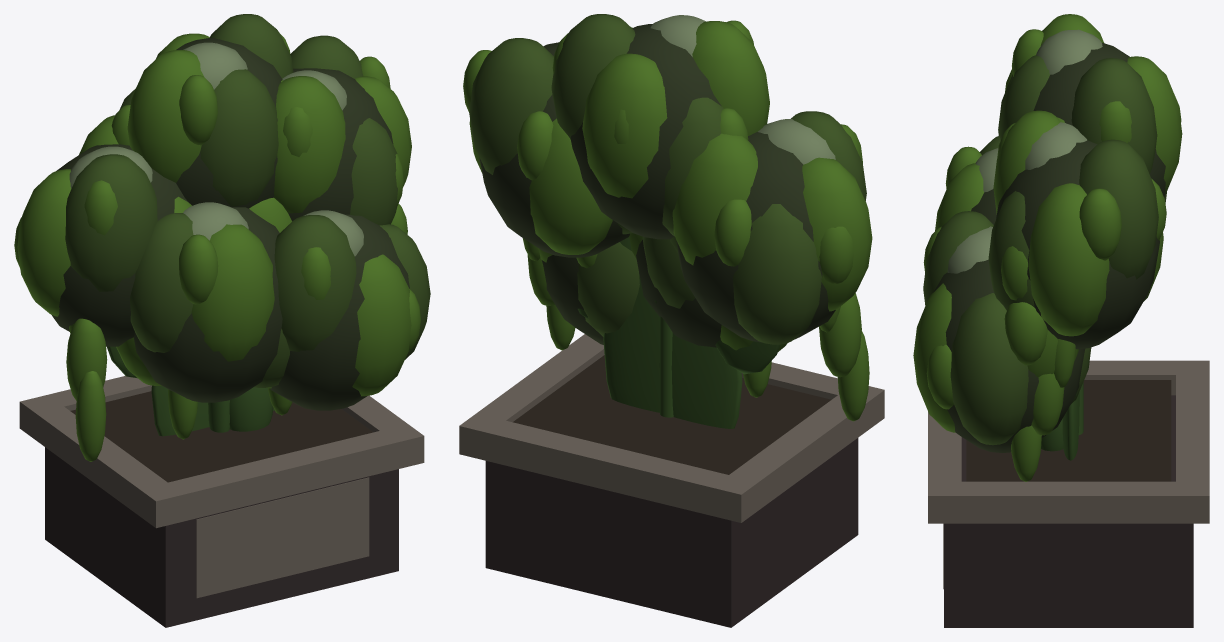
Rendered from CMU3DPottedPlant0.glb.
The picture shows the model from 3 angles, left to right: view 1: azimuth 30°, elevation 25°; view 2: azimuth 150°, elevation 25°; view 3: azimuth 270°, elevation 25°; orthographic projection. The views are drawn at different scales.
Visible parts, largest first — view 1: rounded irregular leaf spray (×18), shadowed foliage core (×5), square pot base, inset light-facing planter band, recessed soil, front and back rim (×2), side rim (×2), fine leafy crown edge (×5), tapered leaf blade (×3), crown highlight (×5), branch (×3); view 2: rounded irregular leaf spray (×12), square pot base, shadowed foliage core (×5), recessed soil, side rim (×2), branch (×4), front and back rim (×2), fine leafy crown edge (×5), tapered leaf blade (×4), crown highlight (×2); view 3: rounded irregular leaf spray (×13), square pot base, side rim (×2), shadowed foliage core (×4), recessed soil, fine leafy crown edge (×8), front and back rim (×2), crown highlight (×4), tapered leaf blade (×3), branch (×2).
Part boxes in pixels (left/top/right/bottom): rounded irregular leaf spray (×18): left=17, top=14, right=430, bottom=396; shadowed foliage core (×5): left=52, top=38, right=409, bottom=410; square pot base: left=45, top=447, right=398, bottom=627; inset light-facing planter band: left=196, top=477, right=369, bottom=598; recessed soil: left=70, top=391, right=373, bottom=482; front and back rim (×2): left=48, top=376, right=396, bottom=521; side rim (×2): left=19, top=395, right=424, bottom=528; fine leafy crown edge (×5): left=84, top=75, right=330, bottom=304; tapered leaf blade (×3): left=66, top=318, right=197, bottom=461; crown highlight (×5): left=69, top=42, right=363, bottom=256; branch (×3): left=151, top=385, right=273, bottom=436; rounded irregular leaf spray (×12): left=469, top=14, right=872, bottom=344; square pot base: left=485, top=438, right=858, bottom=627; shadowed foliage core (×5): left=479, top=24, right=835, bottom=347; recessed soil: left=513, top=355, right=831, bottom=474; side rim (×2): left=459, top=334, right=884, bottom=522; branch (×4): left=603, top=273, right=780, bottom=428; front and back rim (×2): left=488, top=362, right=838, bottom=515; fine leafy crown edge (×5): left=463, top=50, right=853, bottom=283; tapered leaf blade (×4): left=527, top=254, right=869, bottom=421; crown highlight (×2): left=650, top=15, right=835, bottom=164; rounded irregular leaf spray (×13): left=913, top=14, right=1182, bottom=445; square pot base: left=944, top=395, right=1193, bottom=627; side rim (×2): left=928, top=360, right=1209, bottom=523; shadowed foliage core (×4): left=933, top=42, right=1165, bottom=452; recessed soil: left=966, top=380, right=1171, bottom=481; fine leafy crown edge (×8): left=926, top=29, right=1166, bottom=409; front and back rim (×2): left=928, top=375, right=1209, bottom=481; crown highlight (×4): left=947, top=29, right=1102, bottom=273; tapered leaf blade (×3): left=1011, top=339, right=1075, bottom=481; branch (×2): left=1041, top=392, right=1079, bottom=460.
Bounding box in the file's own units: 0.6155 × 0.7975 × 0.4037.
